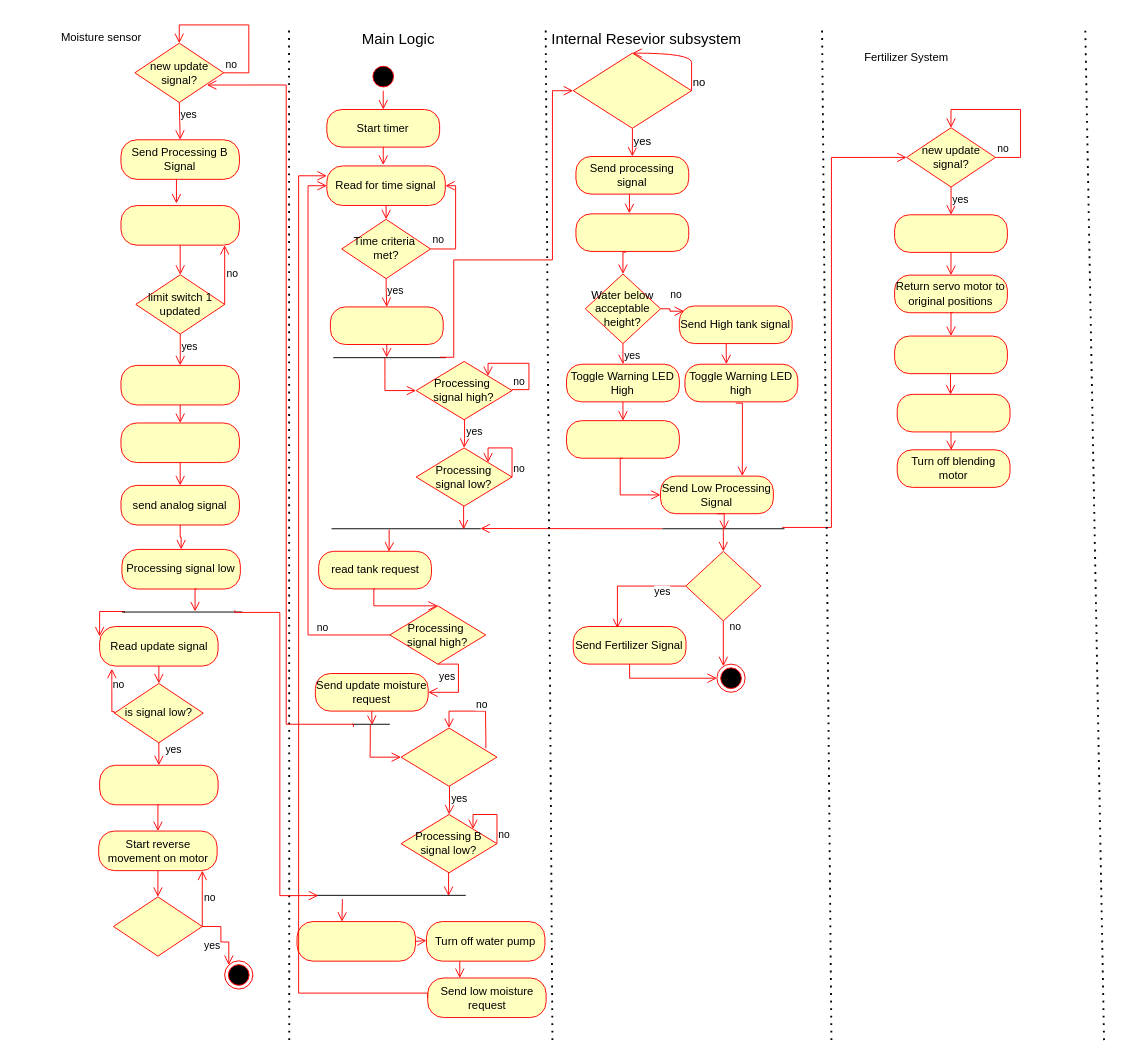
Image size: 1122x1058. Some labels were removed from this diagram. The box of each missing label's shape, as (x1, y1, x2, y2) in pixels:
Fertilizer signal high?: (685, 550, 761, 621)
limit switch 2 updated: (113, 896, 202, 956)
Move servo motor: (894, 214, 1007, 252)
Processing B signal high?: (400, 727, 497, 786)
Read moisture sensor signal: (120, 422, 239, 463)
Read sensor data: (575, 213, 689, 251)
Run period of time: (896, 393, 1010, 432)
Send Low tank signal: (566, 420, 679, 458)
Send update tank request: (329, 306, 443, 345)
Set Processing High: (99, 764, 218, 805)
Start forward movement in motor.: (120, 205, 239, 245)
Stop Motor: (120, 364, 239, 405)
Turn on blending motor: (894, 335, 1007, 374)
Turn on water pump: (296, 921, 415, 961)
Update tank request high?: (572, 52, 692, 128)
